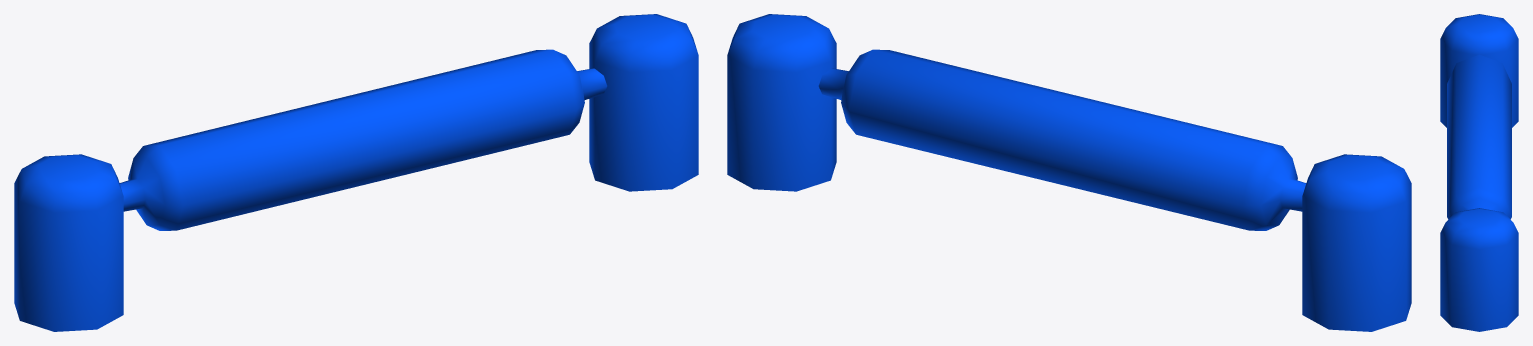
Rendered from Obstacle-29.fbx.
3 renders of one model, left to right at view 1: azimuth 30°, elevation 25°; view 2: azimuth 150°, elevation 25°; view 3: azimuth 270°, elevation 25°, orthographic. The views are drawn at different scales.
Parts seen in each view (by area): view 1: obstacle; view 2: obstacle; view 3: obstacle.
Boxes of the visible parts, x1,y1,x2,y2 form: obstacle: (14,14,698,331); obstacle: (727,14,1411,331); obstacle: (1440,14,1518,331).
Size of the model in its own units: 200 by 40.01 by 29.12.
